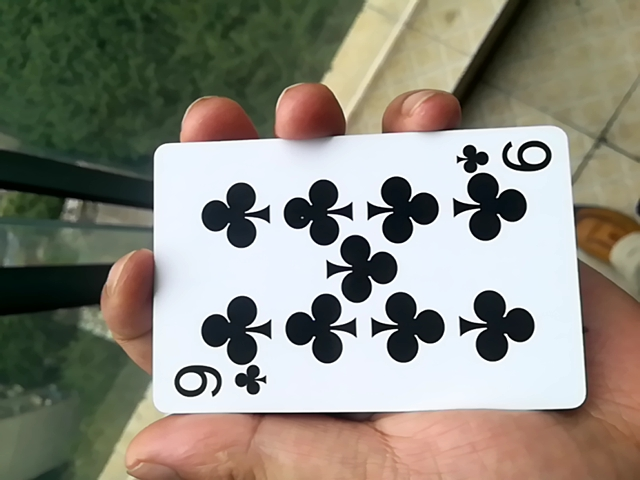mh 9: (137, 129, 586, 424)
